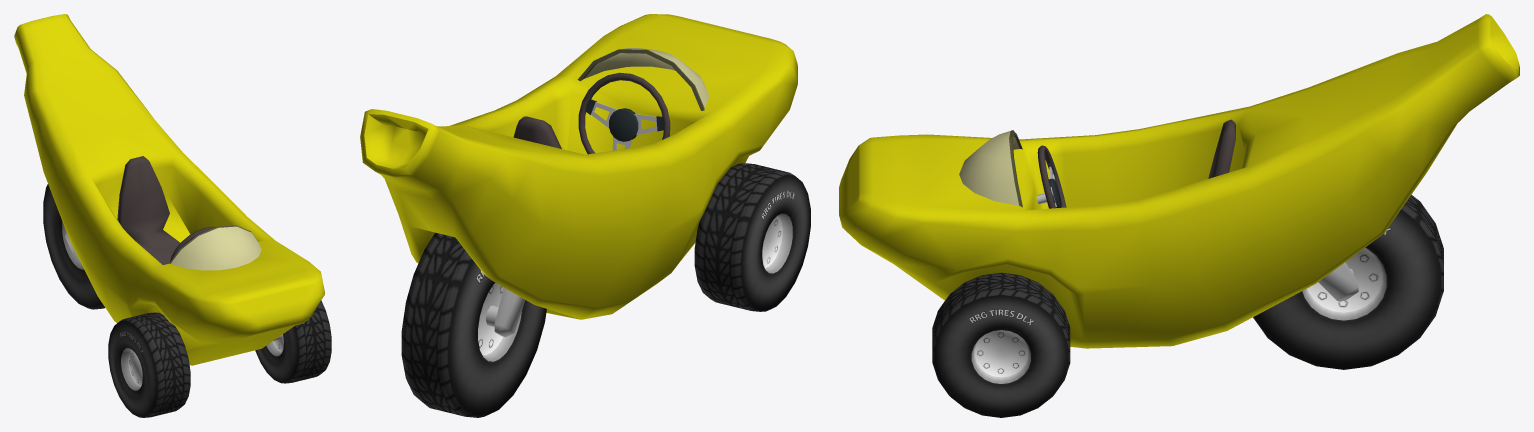
File: banano.glb
The picture shows the model from 3 angles, left to right: view 1: azimuth 30°, elevation 25°; view 2: azimuth 150°, elevation 25°; view 3: azimuth 270°, elevation 25°; orthographic projection. The views are drawn at different scales.
Parts seen in each view (by area): view 1: chair; view 2: chair; view 3: chair.
Part boxes in pixels (x1,y1,x2,y2): chair: (14,14,331,417); chair: (360,14,810,417); chair: (839,14,1519,417).
Size of the model in its own units: 1.49 by 1.96 by 3.6.
Materials: 2 (1 with a texture image).
